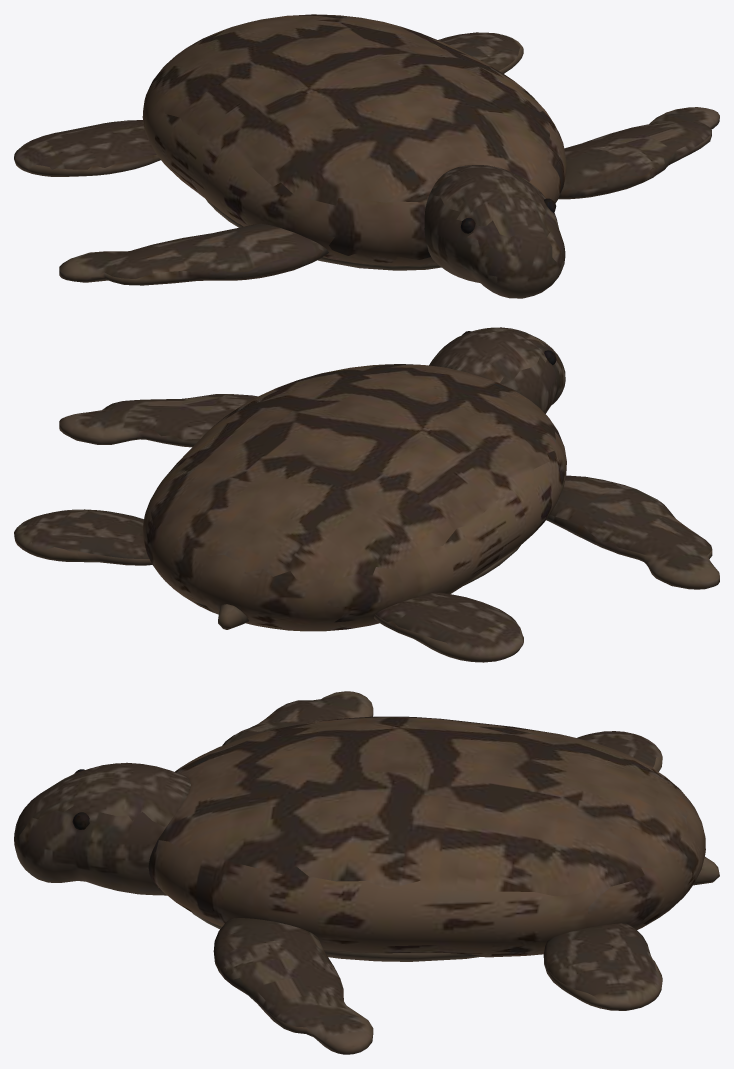
Rendered from turtle_hatchling.glb.
3 renders of one model, top to bottom at view 1: azimuth 30°, elevation 25°; view 2: azimuth 150°, elevation 25°; view 3: azimuth 270°, elevation 25°, orthographic. The views are drawn at different scales.
Visible parts, largest first — view 1: turtle_hatchling, head, flip0, flip1, flip2, flip3; view 2: turtle_hatchling, flip0, flip2, flip1, head, flip3; view 3: turtle_hatchling, head, flip1, flip3, flip0, flip2.
Part boxes in pixels (<box>): turtle_hatchling: <box>142,14,566,270</box>; head: <box>424,165,565,298</box>; flip0: <box>59,223,328,285</box>; flip1: <box>558,107,719,199</box>; flip2: <box>14,120,160,176</box>; flip3: <box>438,32,523,73</box>; turtle_hatchling: <box>142,364,566,631</box>; flip0: <box>546,475,719,589</box>; flip2: <box>374,592,523,662</box>; flip1: <box>59,394,257,447</box>; head: <box>429,327,565,413</box>; flip3: <box>14,509,152,565</box>; turtle_hatchling: <box>148,716,719,961</box>; head: <box>14,762,190,895</box>; flip1: <box>213,918,373,1054</box>; flip3: <box>543,923,662,1010</box>; flip0: <box>222,691,373,745</box>; flip2: <box>577,731,662,771</box>.
Bounding box in the file's own units: 0.6298 × 0.1383 × 0.5267.
1 material, 1 textured.
